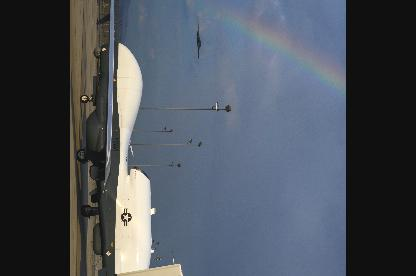B1: (197, 13, 201, 59)
P3: (77, 0, 184, 275)
